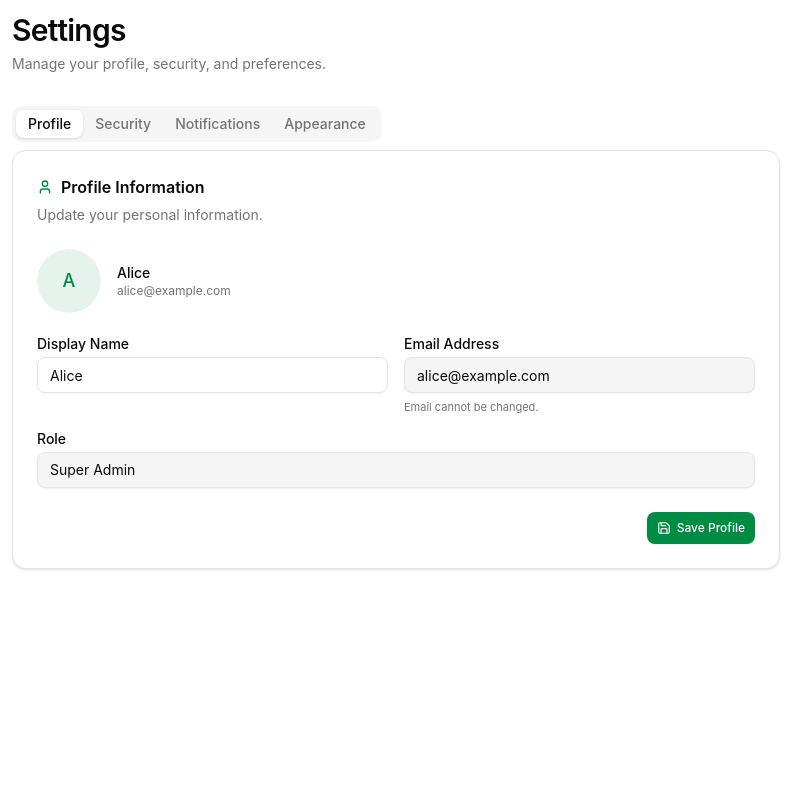
Test: Settings page › keeps Change Password disabled until both password fields are filled
Click the tab "Security". click: click(123, 124)
box: left=83, top=110, right=163, bottom=138
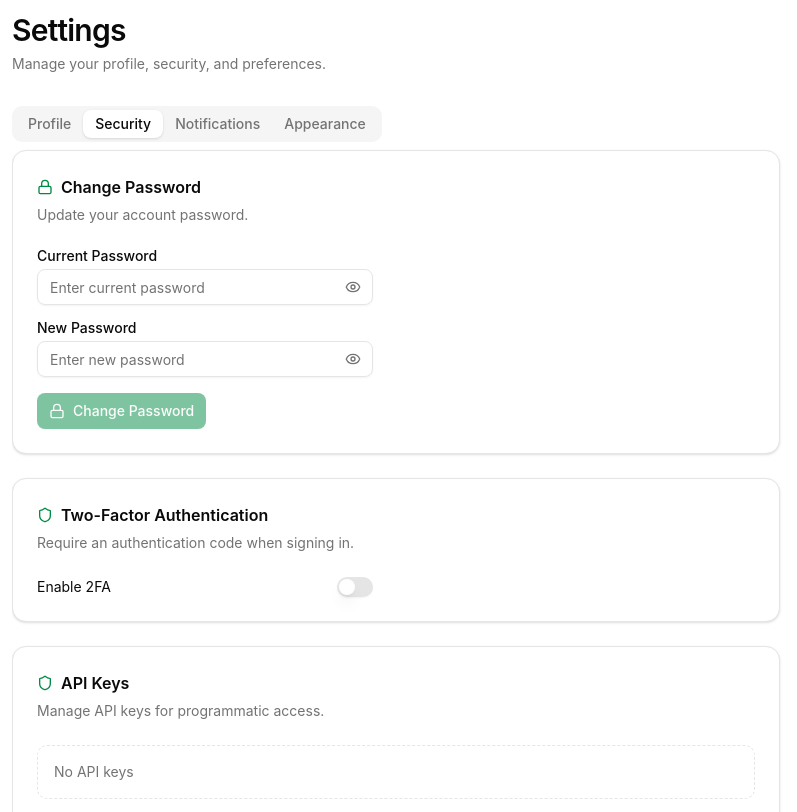
Check: the button "Change Password" is disabled, box left=37, top=393, right=206, bottom=429
Type "old-secret" into the password field labelled "Current Password". click: (205, 287)
box: left=37, top=269, right=373, bottom=305
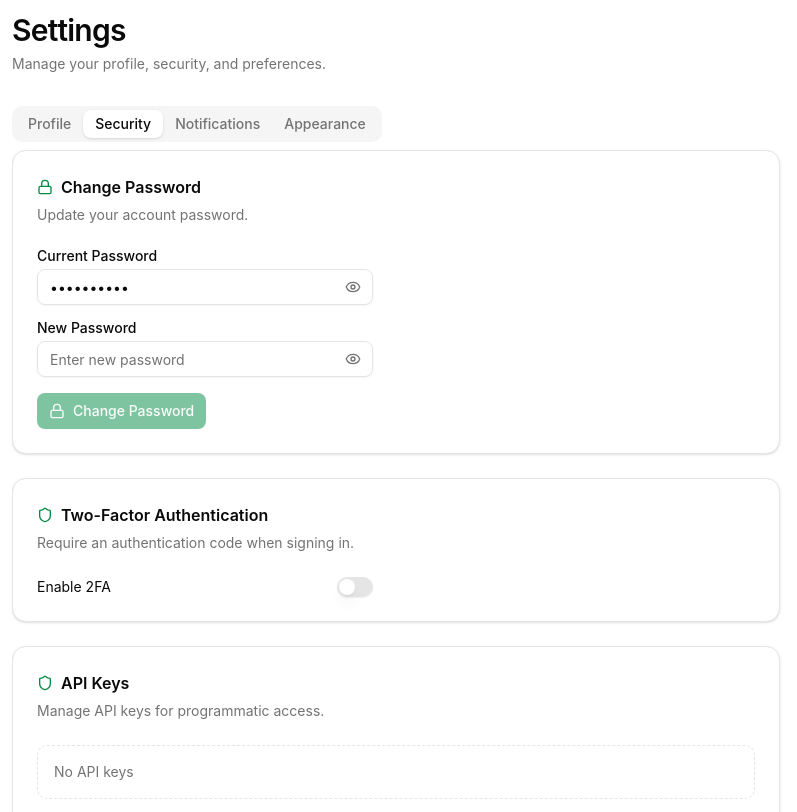
Check: the button "Change Password" is disabled, box left=37, top=393, right=206, bottom=429
Type "brand-new" into the password field labelled "New Password". click: (205, 359)
box: left=37, top=341, right=373, bottom=377
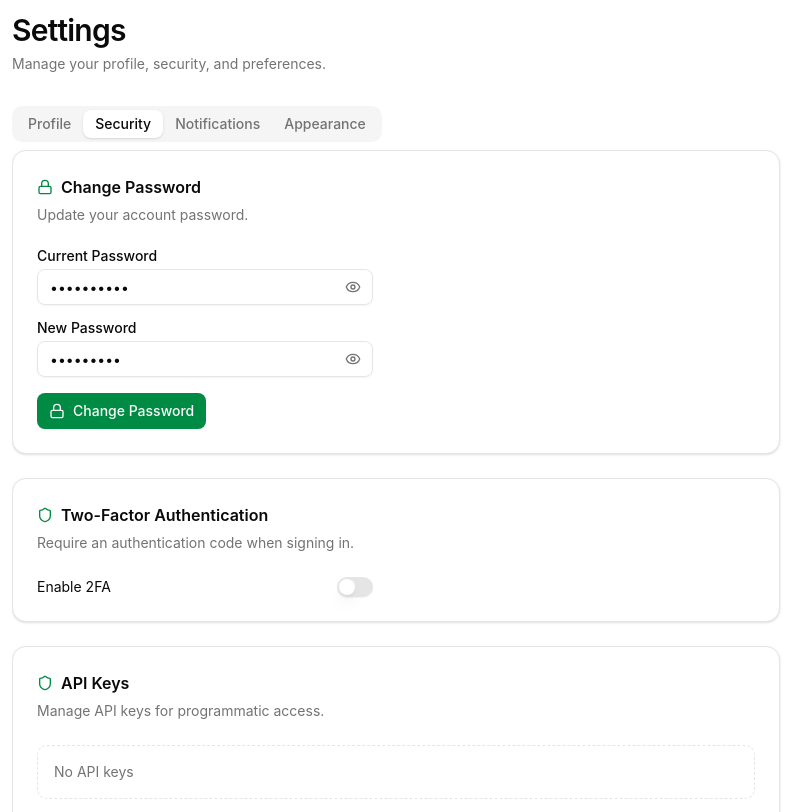
Check: the button "Change Password" is enabled, box left=37, top=393, right=206, bottom=429
